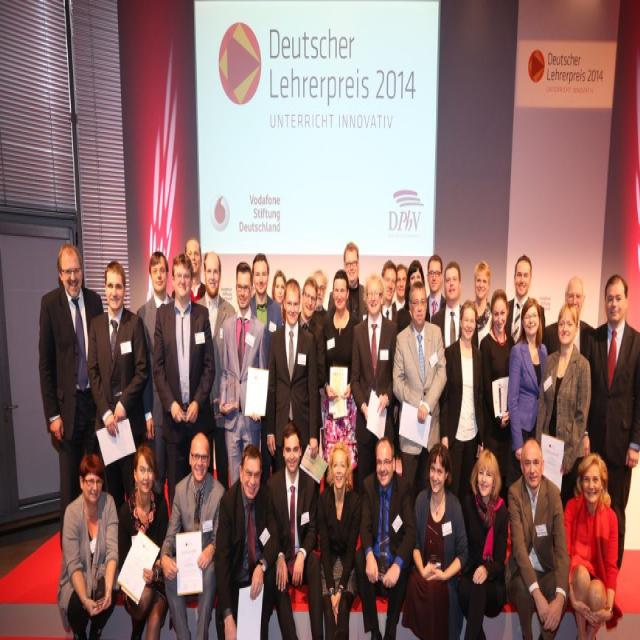body: (37, 241, 105, 555), (581, 272, 640, 577), (151, 249, 217, 516), (86, 257, 151, 503), (263, 417, 328, 639), (399, 436, 470, 639), (158, 429, 226, 640), (503, 431, 572, 638), (211, 438, 282, 638), (349, 431, 416, 638), (542, 274, 599, 514), (392, 279, 448, 516), (54, 448, 121, 639), (534, 299, 593, 513), (218, 260, 272, 493), (135, 250, 177, 546), (265, 277, 320, 476), (455, 444, 511, 639), (562, 452, 620, 640), (116, 440, 170, 640), (350, 272, 398, 495), (194, 251, 238, 492), (314, 434, 365, 638), (316, 265, 361, 488), (439, 299, 486, 509), (478, 287, 516, 509), (506, 296, 548, 487), (249, 252, 283, 480), (430, 258, 480, 354), (504, 250, 546, 350), (326, 240, 369, 327), (298, 275, 327, 393), (394, 258, 432, 334), (268, 268, 329, 313), (170, 235, 208, 302), (471, 259, 494, 352), (424, 252, 448, 323), (380, 257, 399, 324), (392, 263, 408, 313)
